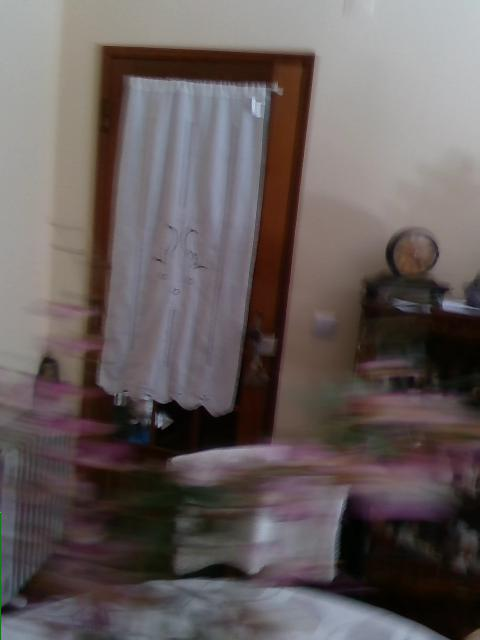door: (70, 42, 312, 553)
